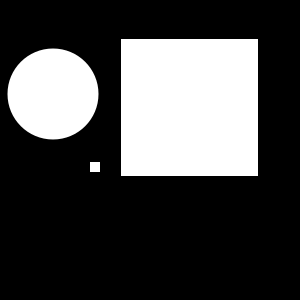circle: (121, 39, 258, 176), (90, 162, 100, 172)
rectangle: (7, 49, 99, 140)
triangle: (52, 62, 73, 83)
